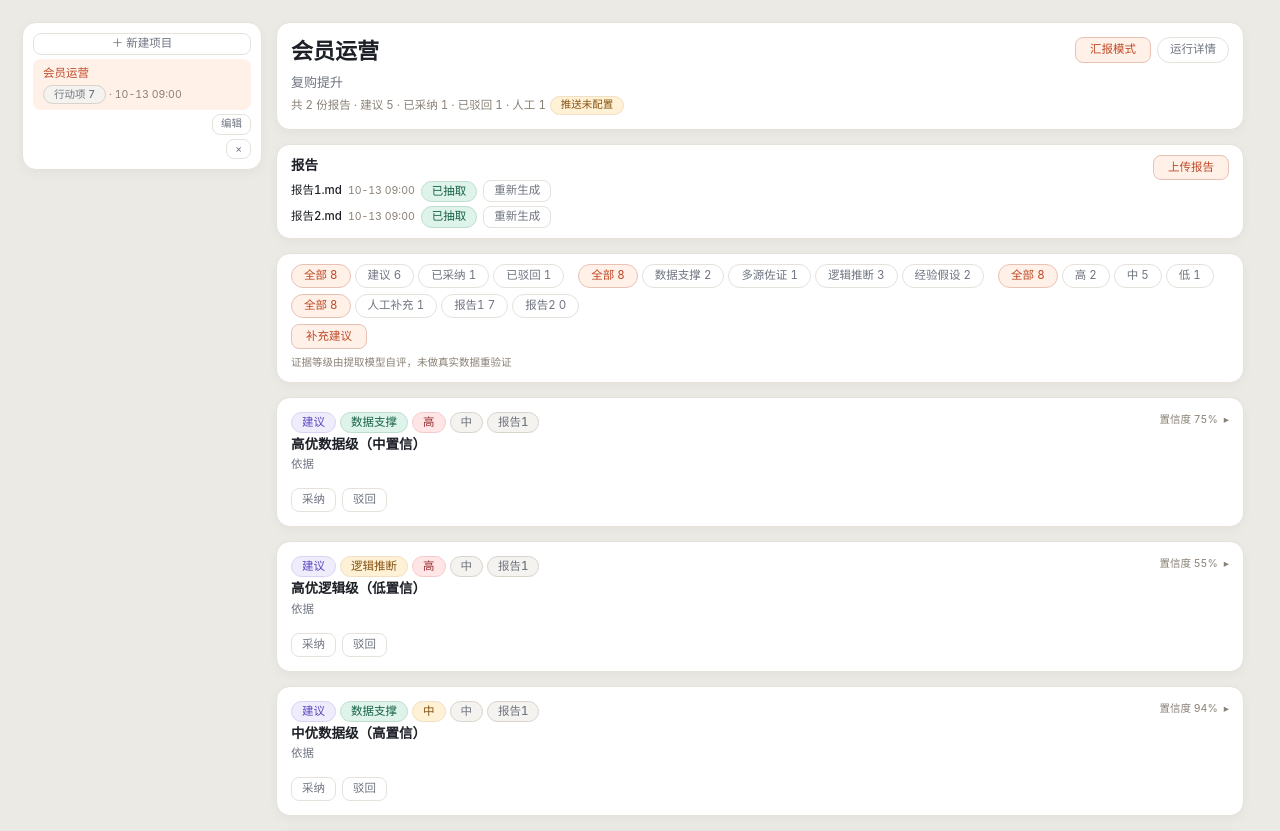
Test: S15 议程：排序（优先级>置信度>createdAt）与直达点击进入逐项页
Click the button "汇报模式" at (1113, 50), box 1075,37 -> 1151,63
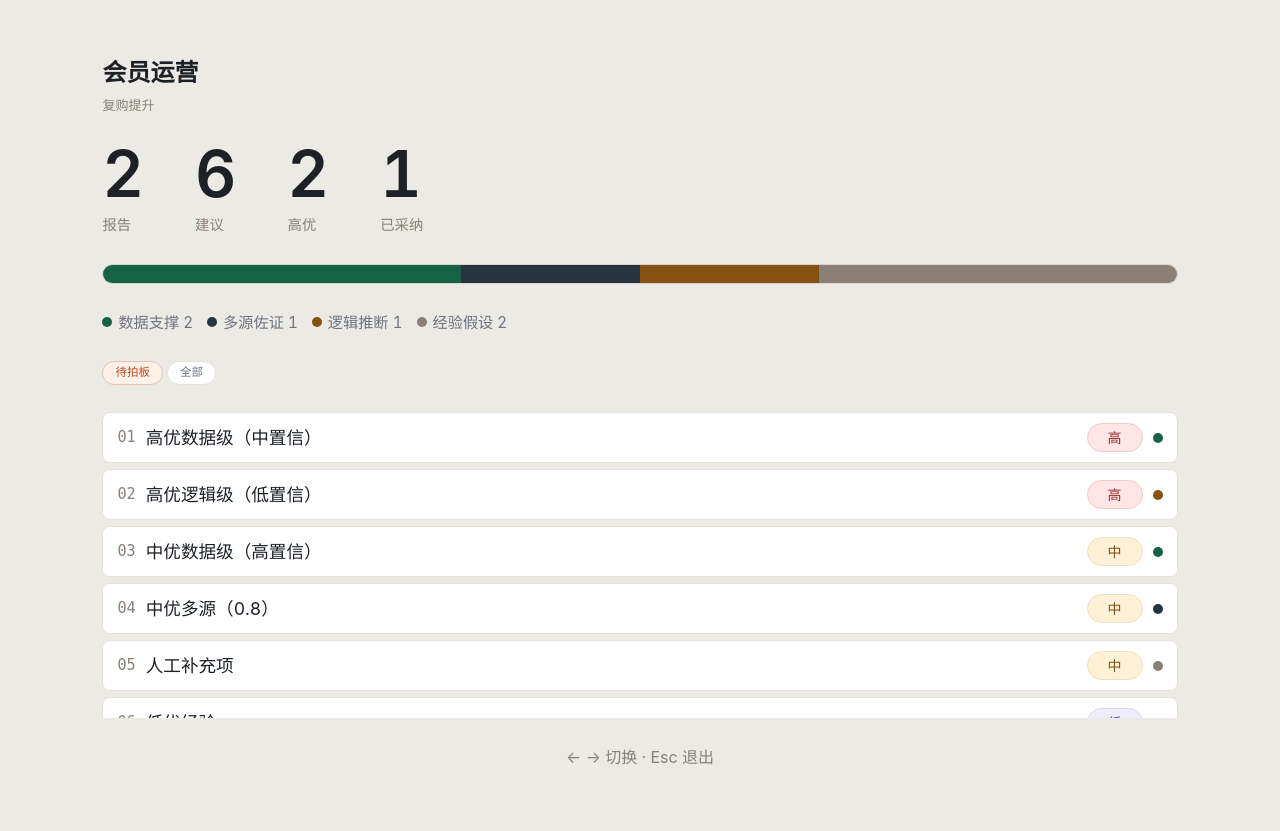
Click the button "03 中优数据级（高置信） 中" at (234, 551), box 102,526 -> 1178,577
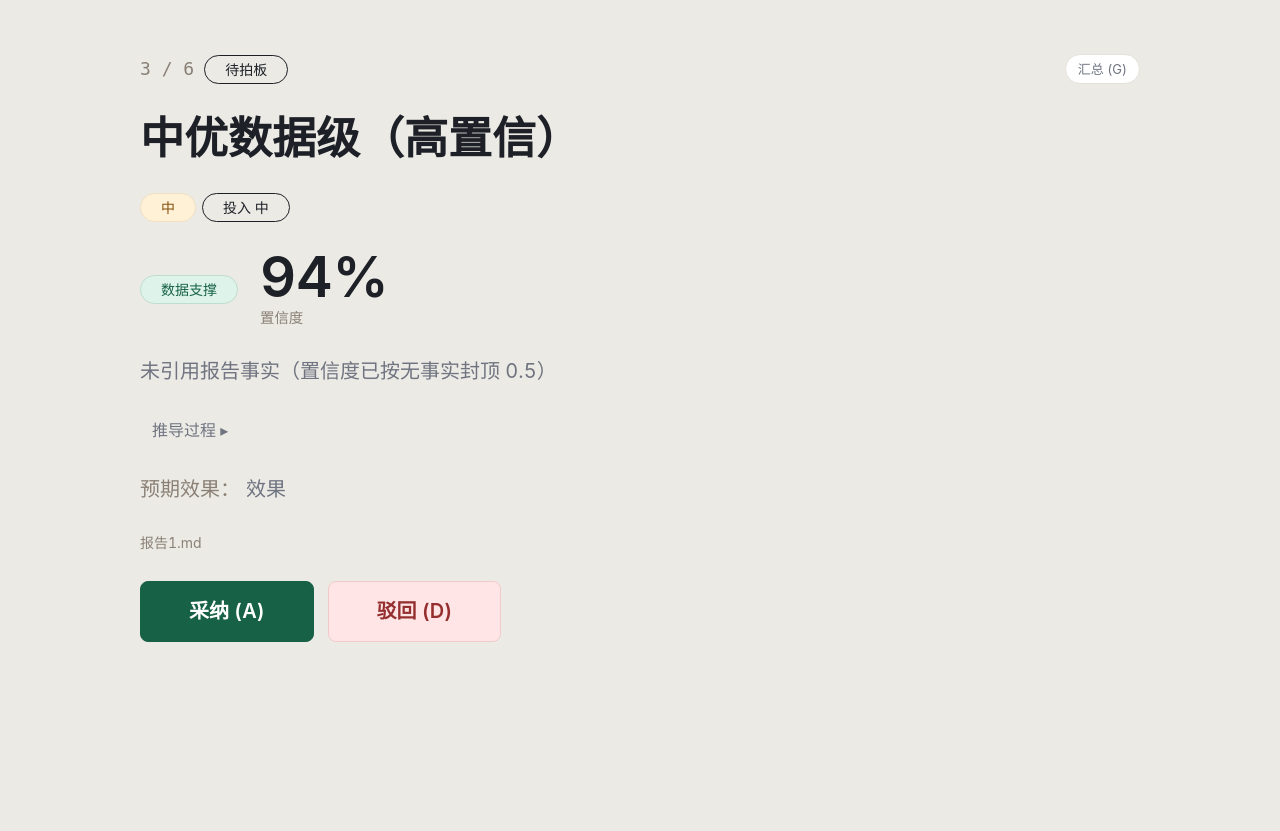
Result: the heading "中优数据级（高置信）" is shown at 140,111 -> 580,165
Result: the text named "第 3 条，共 6 条" is shown at 140,55 -> 194,83
